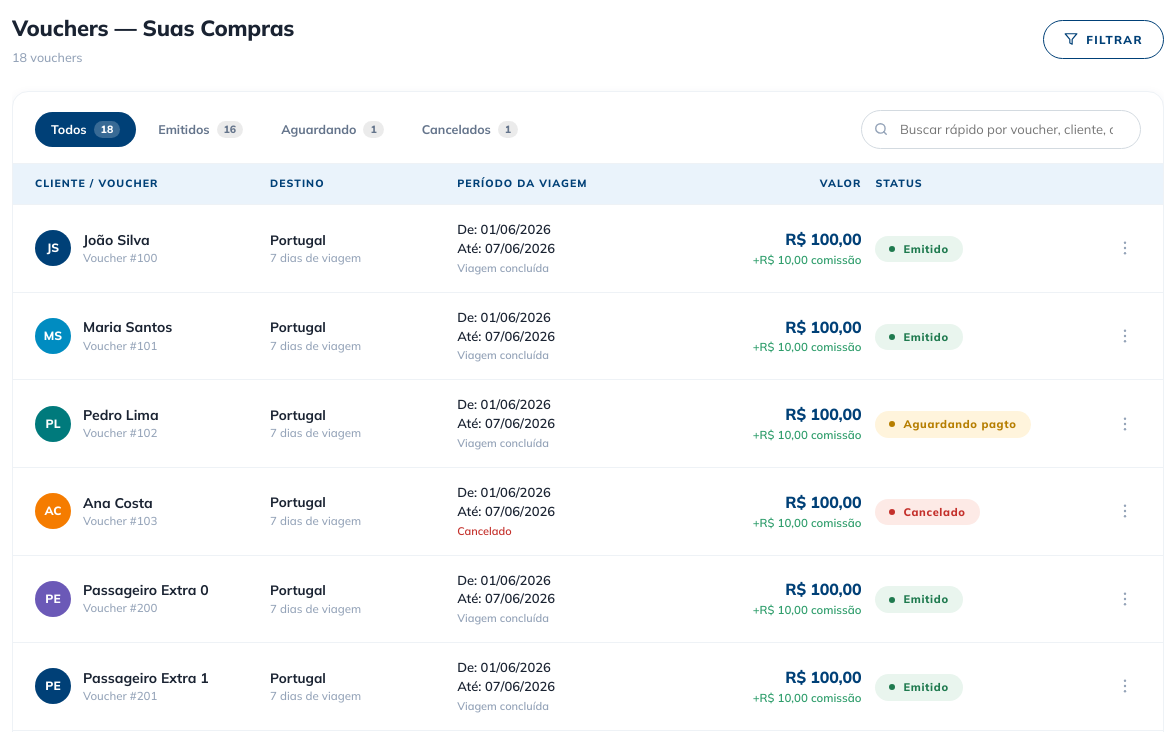
Test: VouchersListSection › busca rápida filtra por nome do passageiro
Type "Maria" into the search field with placeholder "Buscar rápido por voucher, cliente, destino...".
click(1001, 130); type("Maria")  # box [861,110,1141,149]
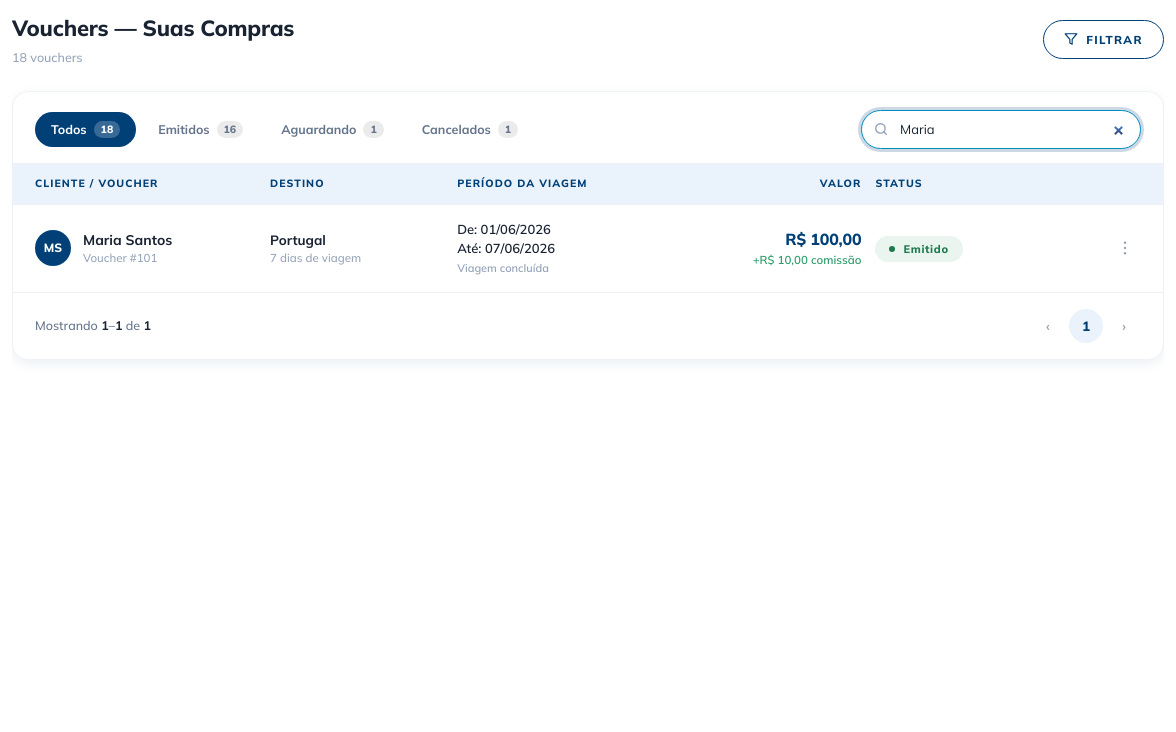
expect the text "Maria Santos" is shown: met, box [83,231,172,249]
expect the text "João Silva" is gone: met
